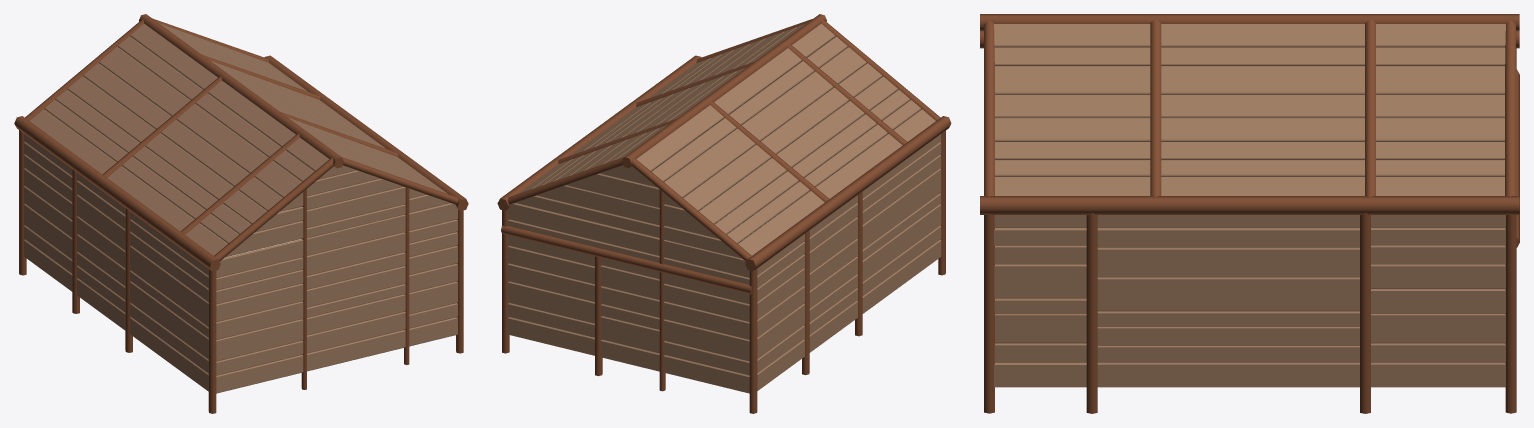
Rendered from Cabin.fbx.
3 renders of one model, left to right at view 1: azimuth 30°, elevation 25°; view 2: azimuth 150°, elevation 25°; view 3: azimuth 270°, elevation 25°, orthographic. The views are drawn at different scales.
Parts seen in each view (by area): view 1: Cabin; view 2: Cabin; view 3: Cabin.
Boxes of the visible parts, <box> form: Cabin: <box>14,14,468,413</box>; Cabin: <box>497,14,951,413</box>; Cabin: <box>980,14,1519,413</box>.
Size of the model in its own units: 3.93 by 3.29 by 5.15.
